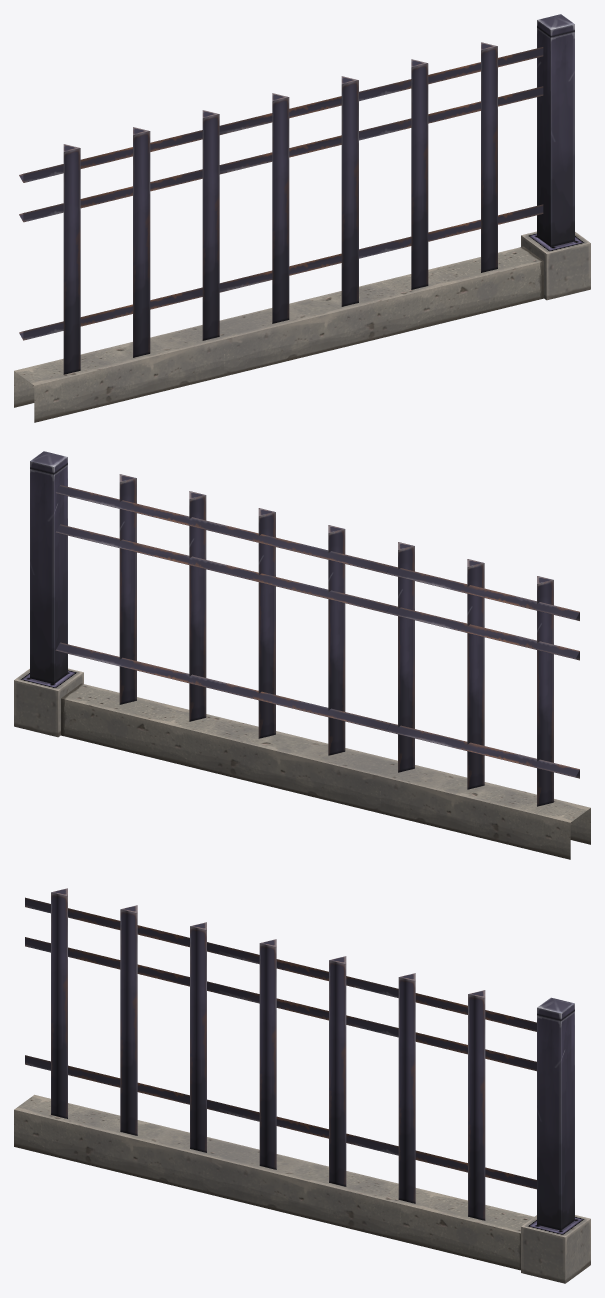
File: ARC0110010.fbx
3 views of the same model, one above another, from view 1: azimuth 30°, elevation 25°; view 2: azimuth 150°, elevation 25°; view 3: azimuth 330°, elevation 25° (orthographic).
Parts seen in each view (by area): view 1: smARC0110010; view 2: smARC0110010; view 3: smARC0110010.
Boxes of the visible parts, x1,y1,x2,y2 form: smARC0110010: (14,14,590,422); smARC0110010: (14,451,590,859); smARC0110010: (14,888,590,1283).
Size of the model in its own units: 275 by 128 by 22.03.
1 material, 1 textured.
